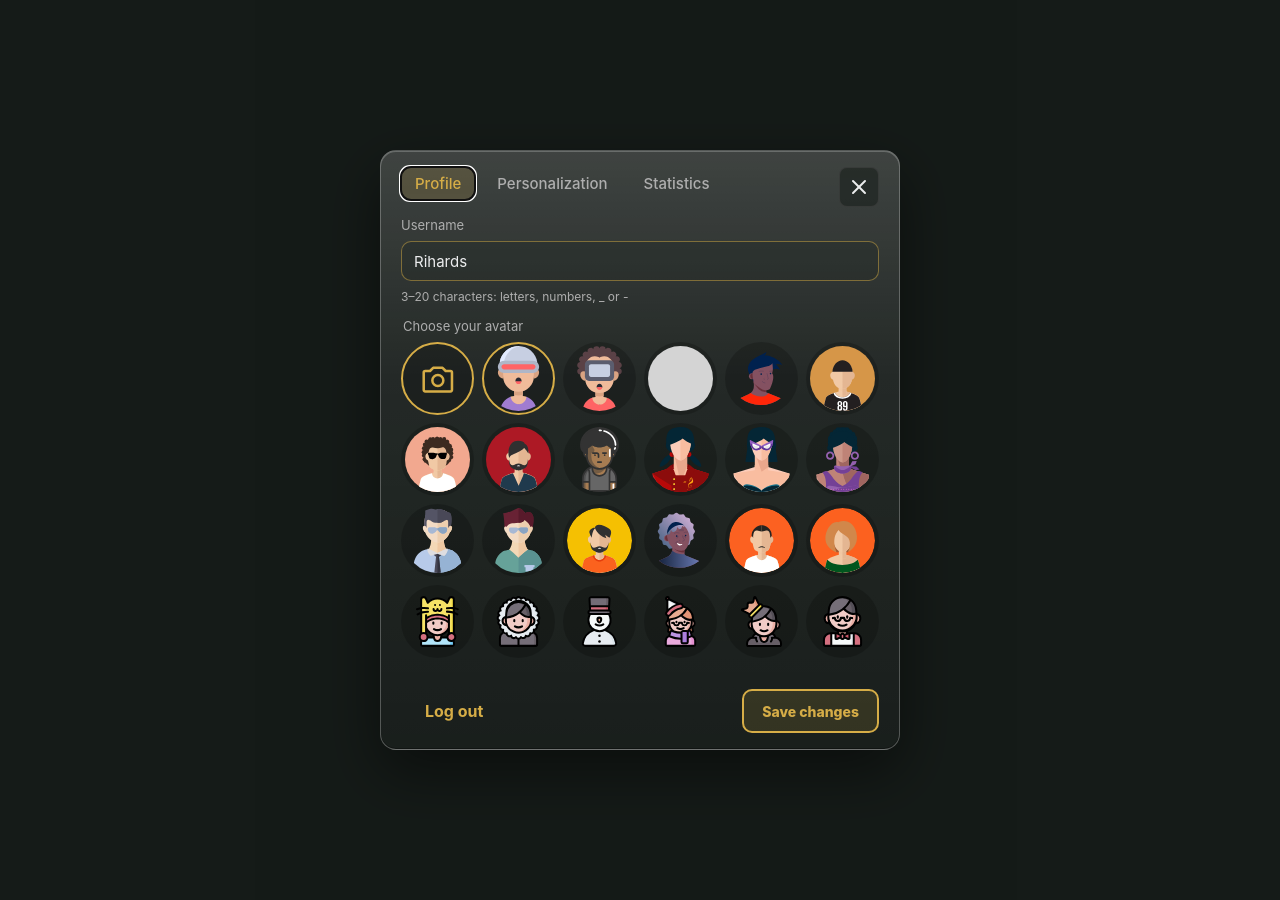
it: AuthDialog — Personalization tab (theme switcher + store) › owned themes are selectable (no Buy button)
Step 1. Click the tab "Personalization" → point(552, 184), box [483,167,622,200]
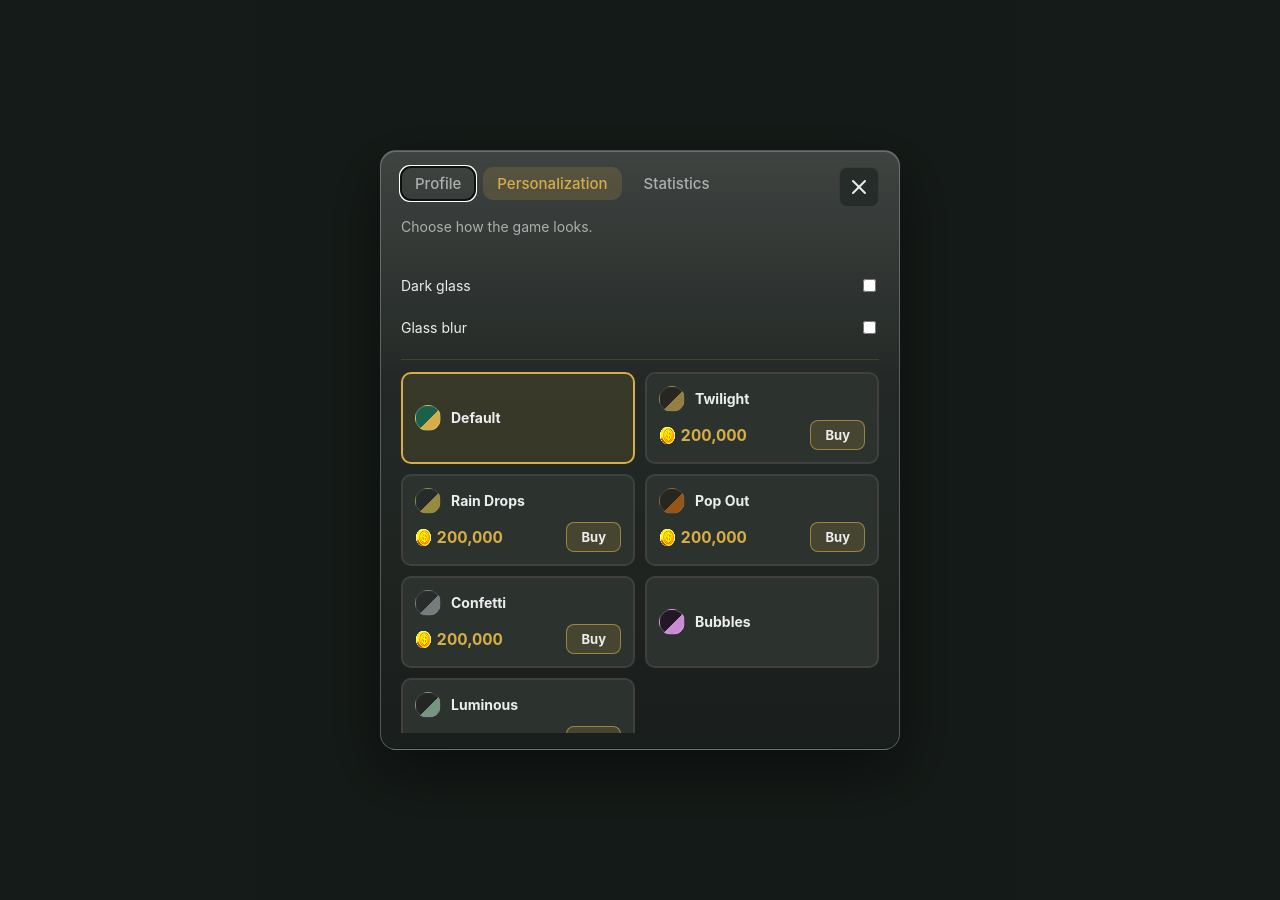
Expected: the radio button labelled "Bubbles" is shown, [645,576,879,668]
Expected: the number of buttons "Buy" is 5
